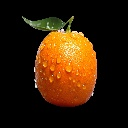orange: (33, 12, 100, 108)
